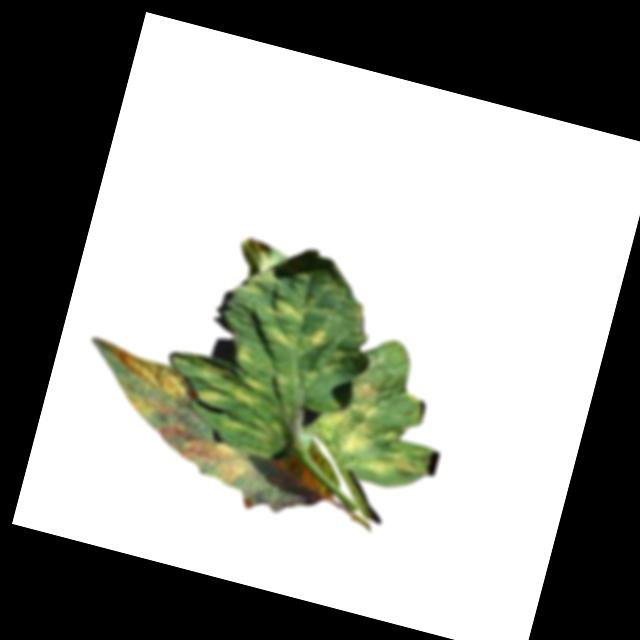Leaf_Mold: (167, 431, 338, 526), (75, 336, 200, 433), (310, 367, 390, 461), (259, 296, 333, 359), (191, 360, 270, 417), (361, 444, 423, 487)
